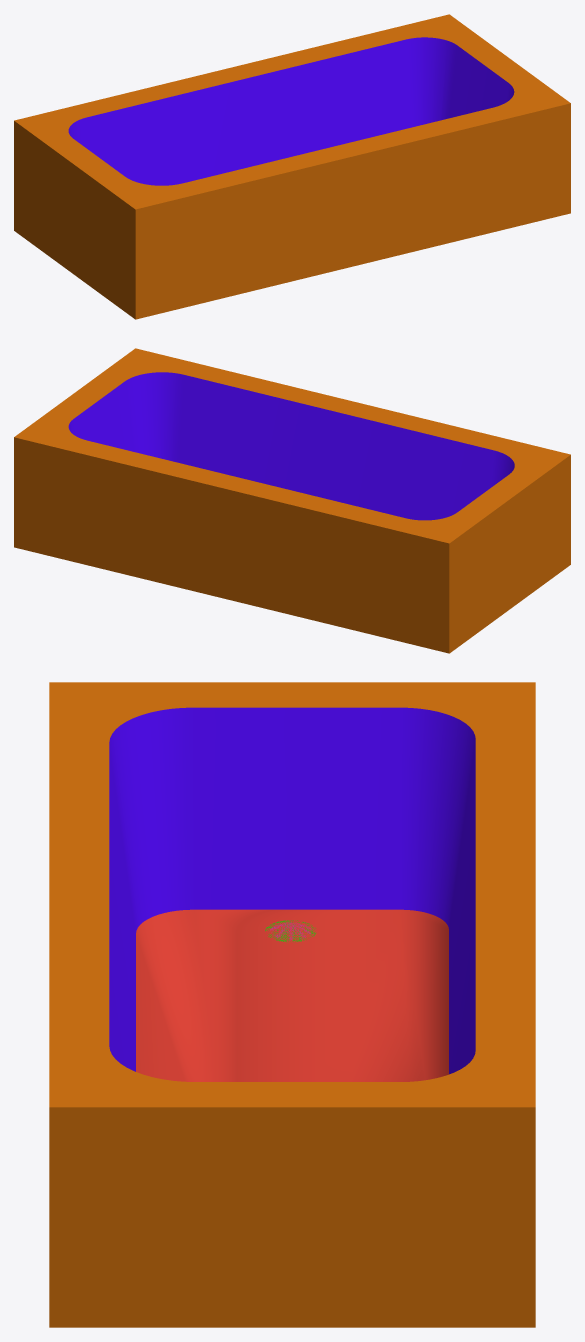
File: bathtubv2.fbx
3 views of the same model, one above another, from view 1: azimuth 30°, elevation 25°; view 2: azimuth 150°, elevation 25°; view 3: azimuth 270°, elevation 25° (orthographic). The views are drawn at different scales.
Visible parts, largest first — view 1: Group2#1-bathtub-Entity601953; view 2: Group2#1-bathtub-Entity601953; view 3: Group2#1-bathtub-Entity601953.
Boxes of the visible parts, x1,y1,x2,y2 form: Group2#1-bathtub-Entity601953: (14,14,570,319); Group2#1-bathtub-Entity601953: (14,348,570,653); Group2#1-bathtub-Entity601953: (49,682,535,1327).
Size of the model in its own units: 6000 by 1450 by 2900.
